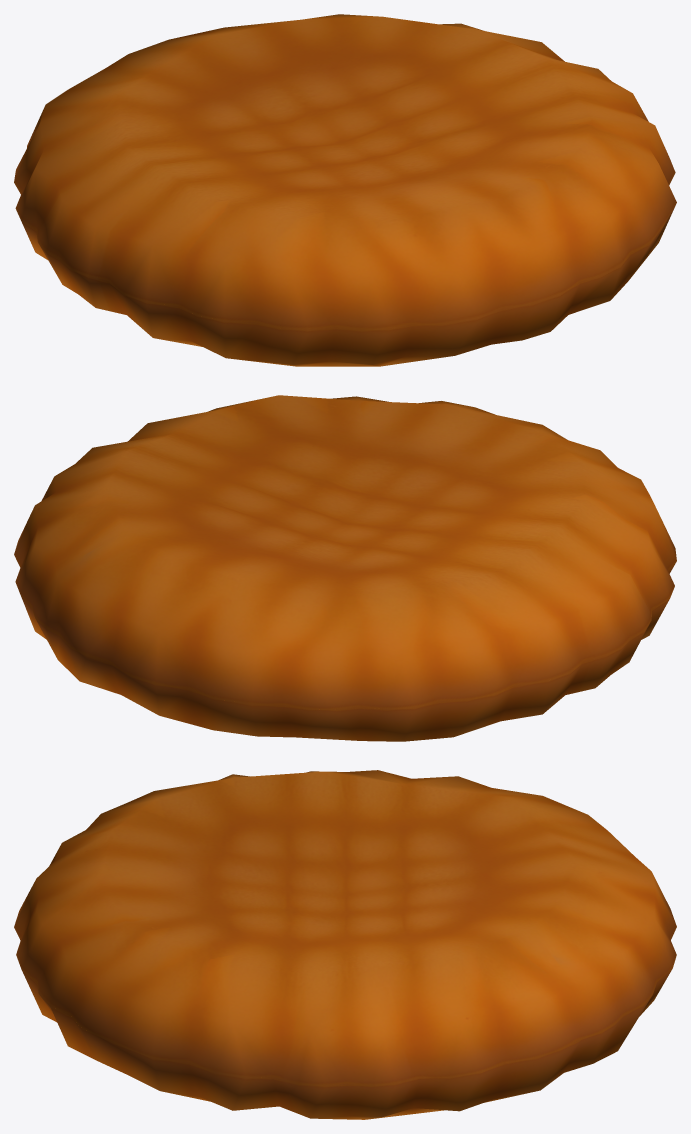
File: stage4_table_snack.fbx
3 renders of one model, top to bottom at view 1: azimuth 30°, elevation 25°; view 2: azimuth 150°, elevation 25°; view 3: azimuth 270°, elevation 25°, orthographic.
Parts seen in each view (by area): view 1: stage4_table_snack; view 2: stage4_table_snack; view 3: stage4_table_snack.
Boxes of the visible parts, x1=… form: stage4_table_snack: x1=14, y1=14, x2=676, y2=366; stage4_table_snack: x1=14, y1=395, x2=676, y2=741; stage4_table_snack: x1=14, y1=770, x2=676, y2=1119.
Bounding box in the file's own units: 0.1057 × 0.0262 × 0.1041.
